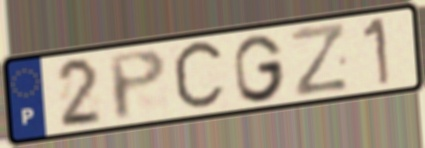1: (361, 15, 392, 88)
2: (55, 55, 104, 130)
C: (169, 36, 228, 117)
G: (231, 32, 288, 105)
P: (105, 47, 170, 124)
Z: (288, 20, 351, 100)
